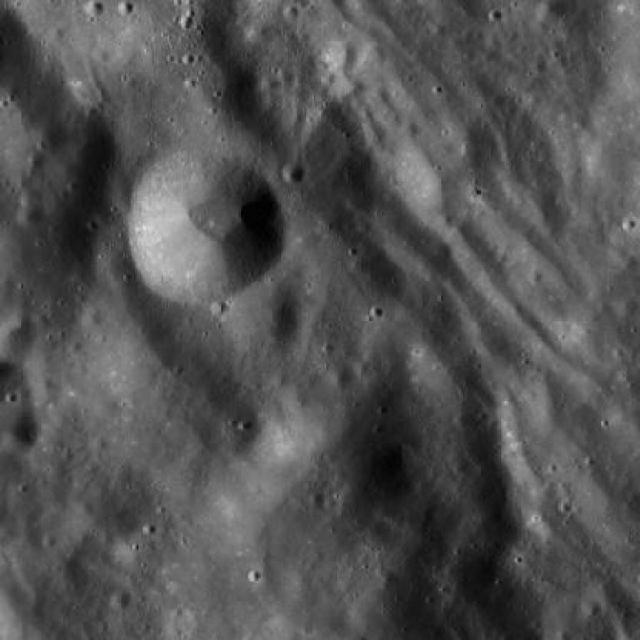crater: (63, 274, 272, 483), (124, 144, 284, 304), (0, 191, 98, 350), (0, 97, 118, 217), (222, 282, 302, 362), (90, 236, 142, 286), (115, 528, 156, 570), (0, 320, 37, 366), (0, 410, 40, 452), (17, 200, 46, 229), (282, 382, 310, 409), (247, 22, 270, 46), (281, 161, 304, 184), (611, 292, 634, 314), (580, 596, 602, 618), (110, 588, 132, 610), (21, 186, 41, 206), (260, 74, 280, 94), (84, 0, 104, 18), (0, 358, 15, 381), (282, 5, 300, 22), (622, 253, 640, 270), (118, 0, 134, 16), (212, 300, 226, 316)
